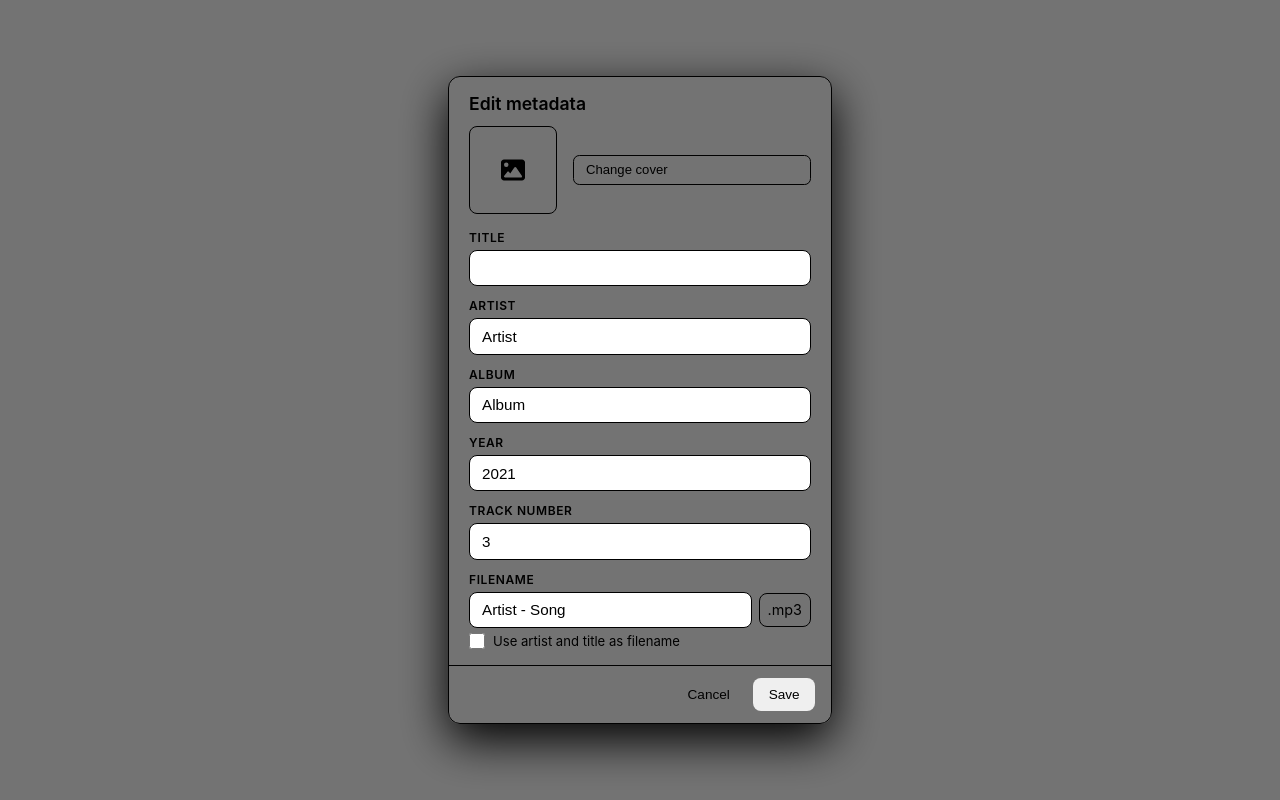
Test: EditMetadataModal › auto-filename checkbox › uses only artist when title is empty
The image size is (1280, 800).
Click the checkbox at (477, 641), box [469,633,485,649]
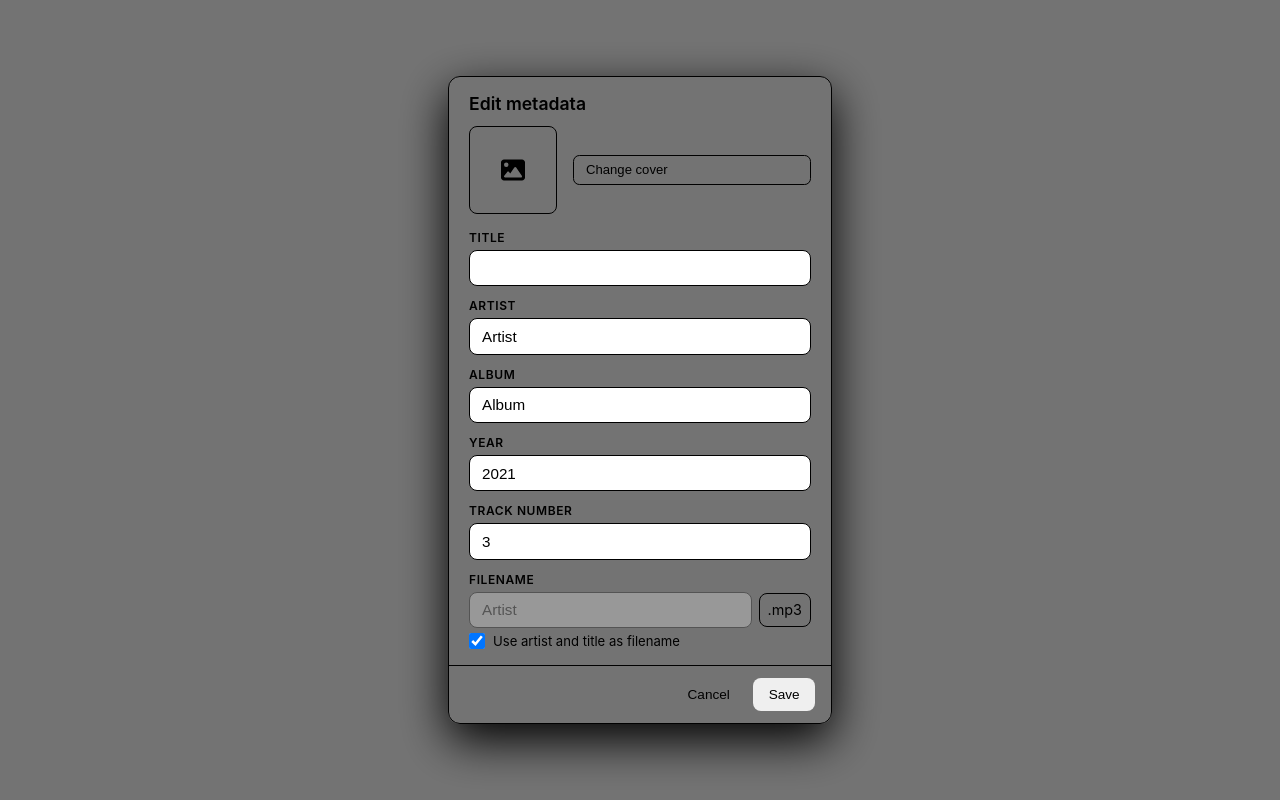
Expected: the field labelled "Filename" holds "Artist", [469,592,752,628]
